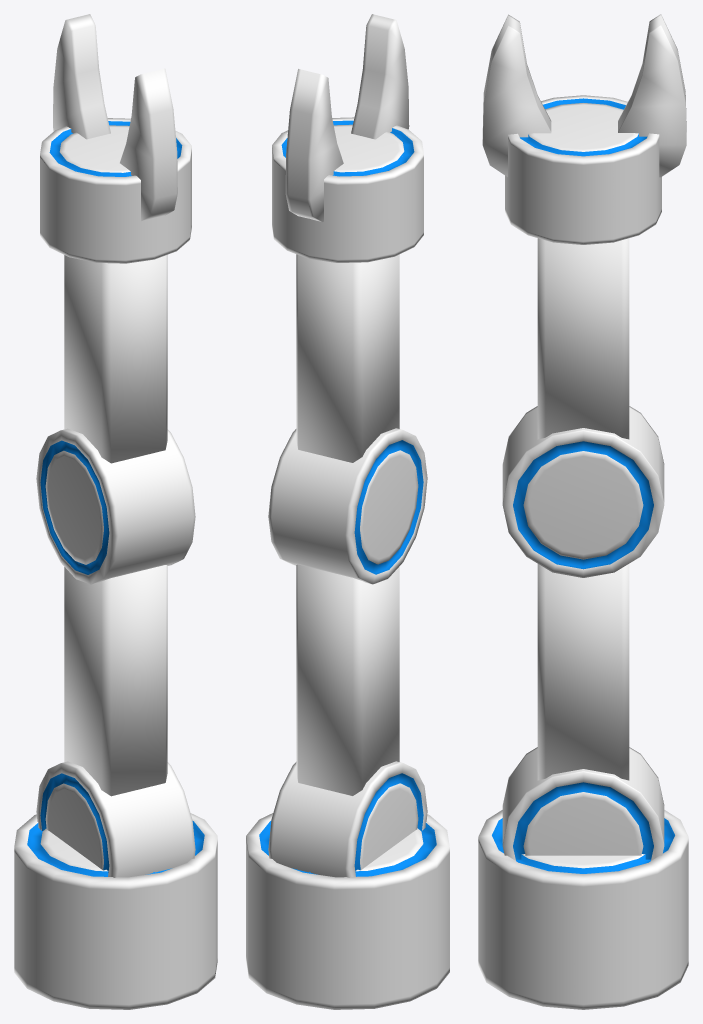
The model's file is RobotArm.fbx.
3 views of the same model, side by side, from view 1: azimuth 30°, elevation 25°; view 2: azimuth 150°, elevation 25°; view 3: azimuth 270°, elevation 25° (orthographic). The views are drawn at different scales.
Visible parts, largest first — view 1: Base, Arm1, Arm2, Joint2, JointHand, Joint1, GripperL, GripperR; view 2: Base, Arm1, Arm2, Joint2, JointHand, Joint1, GripperR, GripperL; view 3: Base, Joint2, JointHand, Arm1, Arm2, Joint1, GripperR, GripperL.
Part boxes in pixels (x1,y1,x2,y2): Base: (14,813,217,1009); Arm1: (64,565,167,796); Arm2: (64,255,167,463); Joint2: (36,428,195,584); JointHand: (40,118,191,263); Joint1: (36,761,195,877); GripperL: (120,68,177,221); GripperR: (53,14,110,139); Base: (246,813,449,1009); Arm1: (296,564,399,795); Arm2: (296,254,399,462); Joint2: (268,428,427,584); JointHand: (272,117,423,262); Joint1: (268,761,427,877); GripperR: (285,69,343,221); GripperL: (351,14,409,139); Base: (478,810,688,1009); Joint2: (502,406,664,577); JointHand: (505,95,661,244); Arm1: (537,564,629,780); Arm2: (537,238,629,439); Joint1: (502,747,664,860); GripperR: (618,14,686,177); GripperL: (482,14,551,176).
Bounding box in the file's own units: 152 × 756 × 152.
Materials: 2 (1 with a texture image).
